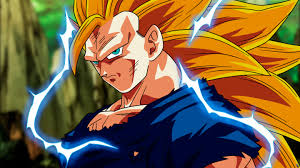Songoku: (74, 2, 177, 96)
